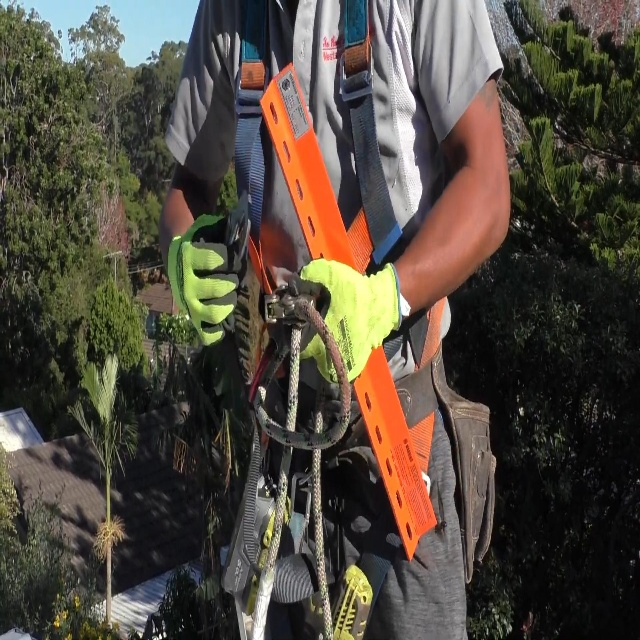Arnes_seguridad: (199, 0, 440, 595)
